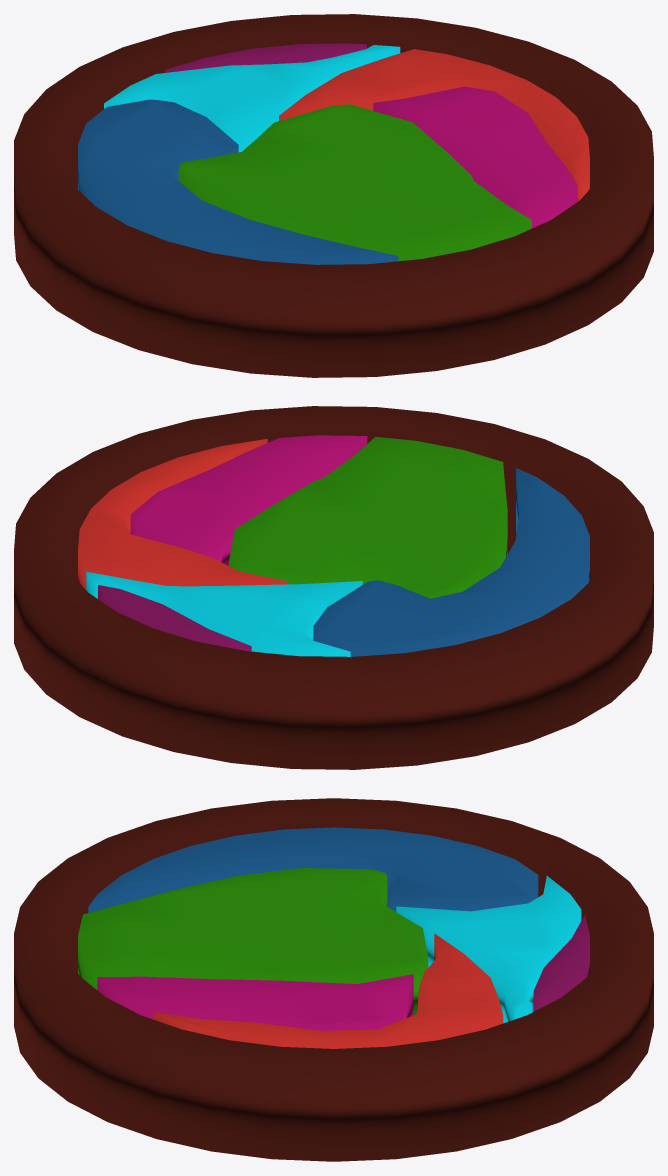
File: circle_puzzle.glb
3 views of the same model, one above another, from view 1: azimuth 30°, elevation 25°; view 2: azimuth 150°, elevation 25°; view 3: azimuth 270°, elevation 25° (orthographic).
Parts seen in each view (by area): view 1: circle_puzzle, circle_puzzle.003, circle_puzzle.002, circle_puzzle.001, circle_puzzle.006, circle_puzzle.004, circle_puzzle.005; view 2: circle_puzzle, circle_puzzle.003, circle_puzzle.002, circle_puzzle.001, circle_puzzle.006, circle_puzzle.004, circle_puzzle.005; view 3: circle_puzzle, circle_puzzle.003, circle_puzzle.002, circle_puzzle.001, circle_puzzle.006, circle_puzzle.004, circle_puzzle.005.
Part boxes in pixels (<box>): circle_puzzle: <box>14,14,653,377</box>; circle_puzzle.003: <box>178,104,531,261</box>; circle_puzzle.002: <box>78,99,398,264</box>; circle_puzzle.001: <box>373,86,577,228</box>; circle_puzzle.006: <box>279,49,589,201</box>; circle_puzzle.004: <box>104,45,400,152</box>; circle_puzzle.005: <box>165,43,366,72</box>; circle_puzzle: <box>14,406,653,769</box>; circle_puzzle.003: <box>229,437,507,598</box>; circle_puzzle.002: <box>313,468,589,656</box>; circle_puzzle.001: <box>130,435,367,565</box>; circle_puzzle.006: <box>78,439,288,589</box>; circle_puzzle.004: <box>86,571,362,656</box>; circle_puzzle.005: <box>98,585,251,651</box>; circle_puzzle: <box>14,798,653,1161</box>; circle_puzzle.003: <box>78,868,428,1014</box>; circle_puzzle.002: <box>88,827,538,912</box>; circle_puzzle.001: <box>97,974,413,1030</box>; circle_puzzle.006: <box>153,933,503,1048</box>; circle_puzzle.004: <box>396,876,581,1023</box>; circle_puzzle.005: <box>533,915,589,1011</box>.
Size of the model in its own units: 5.13 by 0.824 by 5.13.
